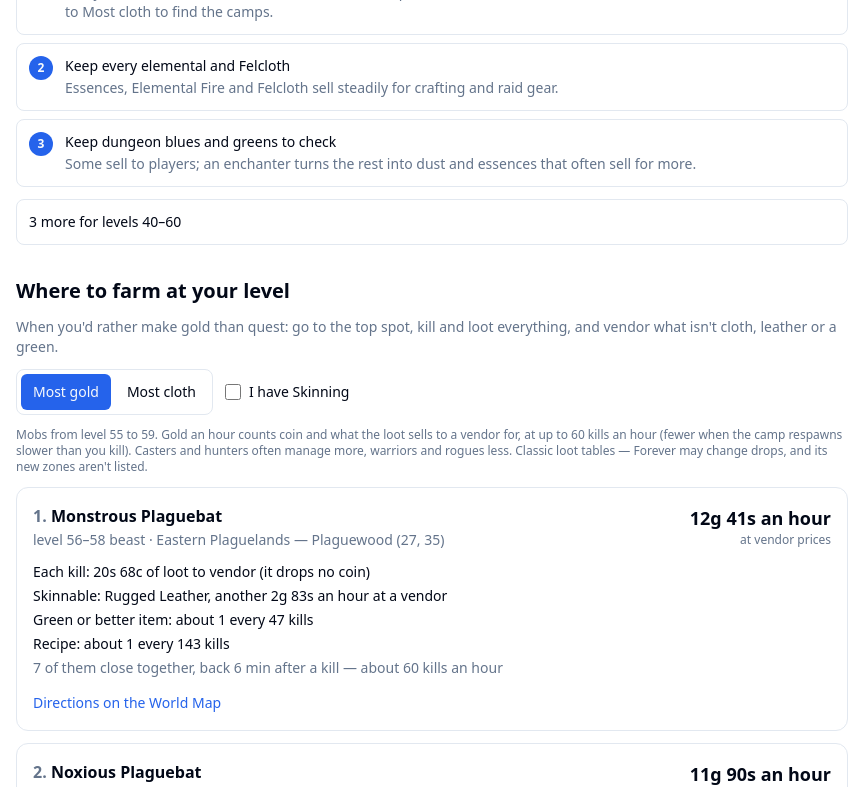
Test case: Making gold page › re-sorts the farm list by cloth and adds Skinning to gold an hour
(page scrolled)
Expected: the list item "Skinnable:" is shown, [33,586,104,605]
Click the checkbox labelled "I have Skinning" at [233, 392], box [225,384,241,400]
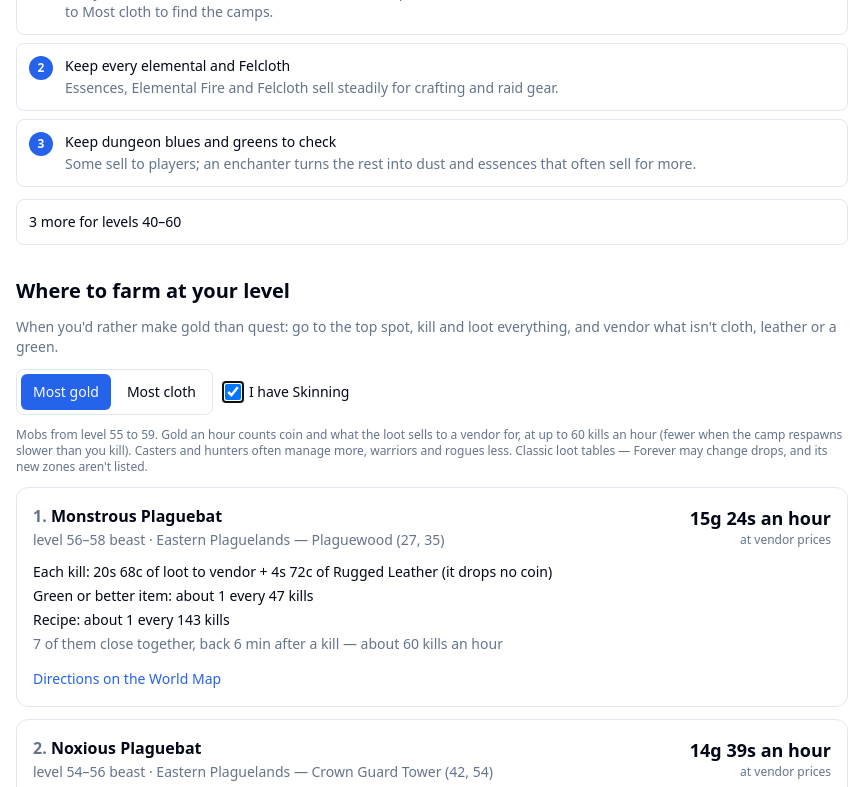
Now the list item "Skinnable:" is gone
Click the radio button labelled "Most cloth" at [161, 392], box [115,374,208,410]
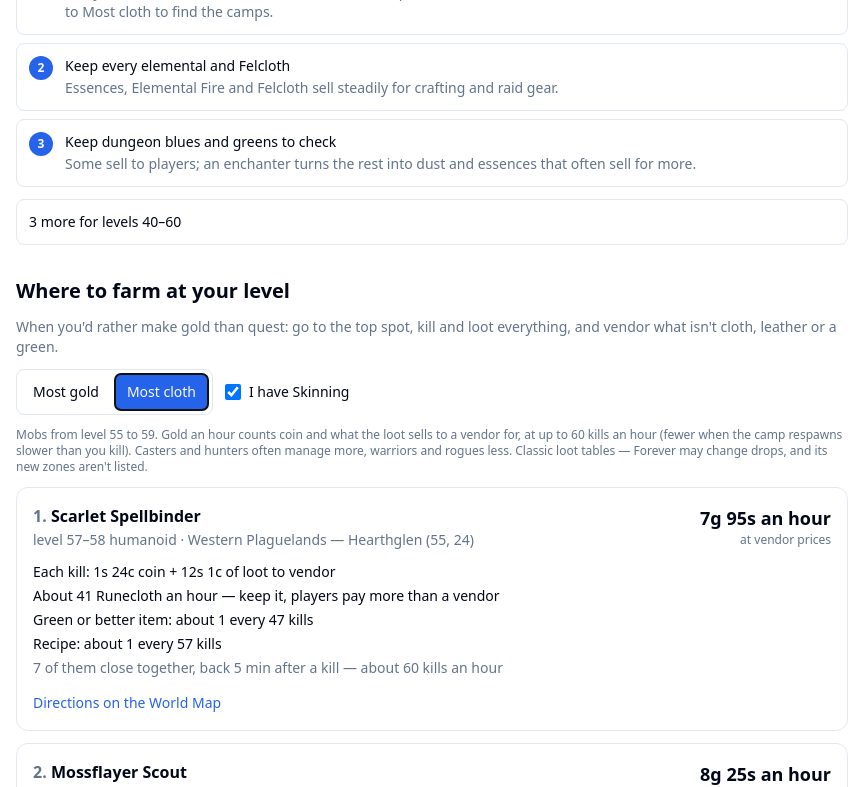
Now the text "41 Runecloth" is shown, box [76,586,162,605]
